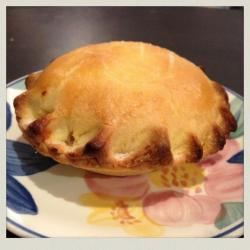apple_pie: (19, 30, 241, 203)
